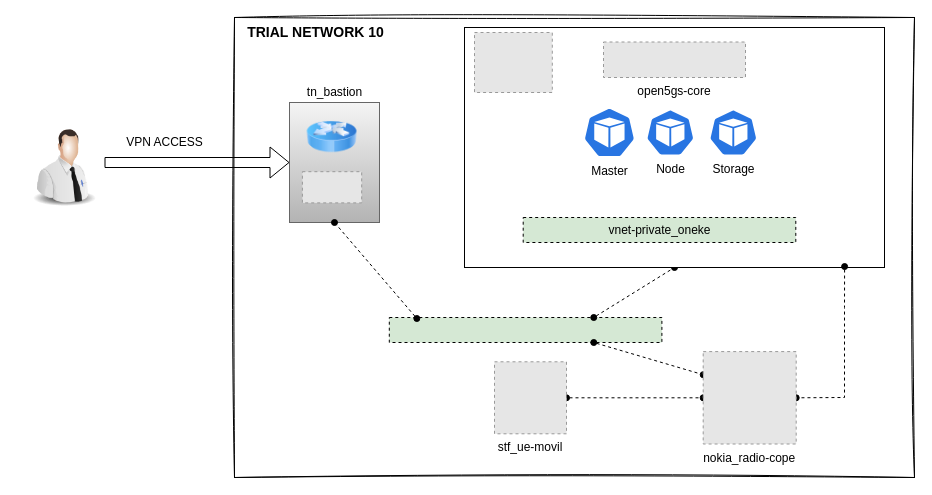
This 932x495 diagram has some shape labels left out. Grey dashed boxes stand in for pictures. Each missing label, with the box of its shape:
EXPERIMENTER: (24, 127, 104, 207)
oneKE-k8s: (464, 26, 884, 268)
tn_vxlan: (388, 316, 662, 342)
